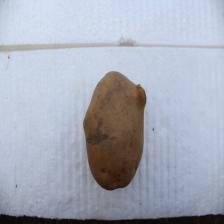Damaged potato: (82, 68, 148, 193)
